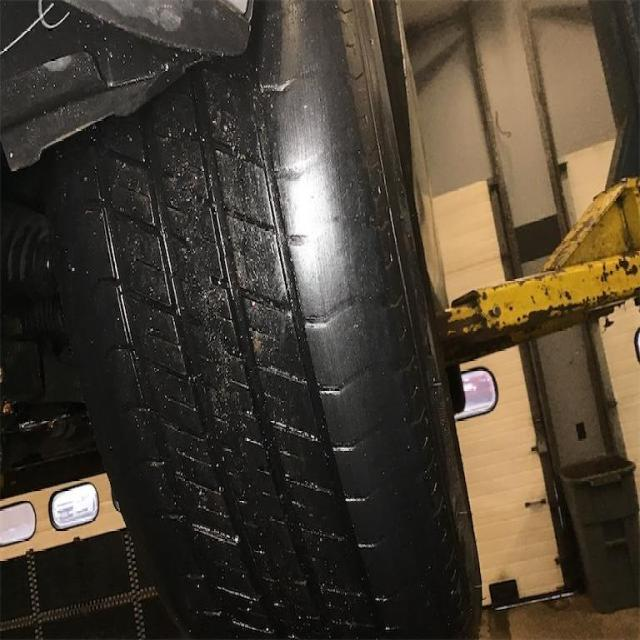Flat spots: (248, 0, 368, 639)
